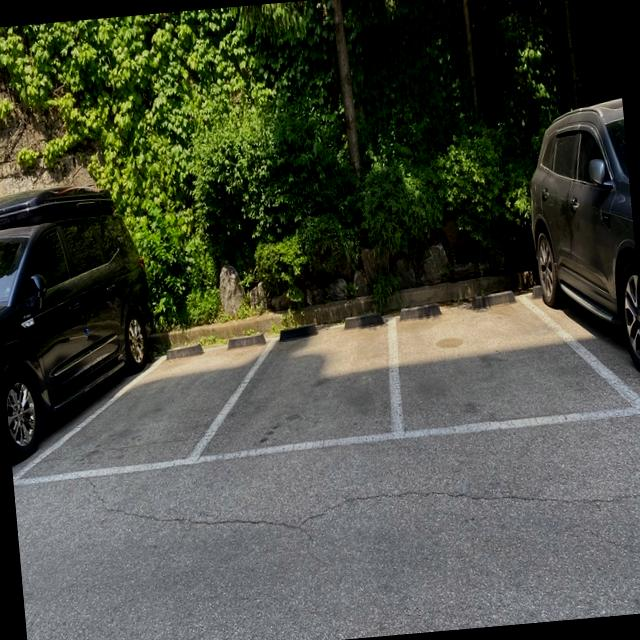free: (12, 325, 290, 492), (372, 291, 640, 443), (181, 310, 406, 468)
